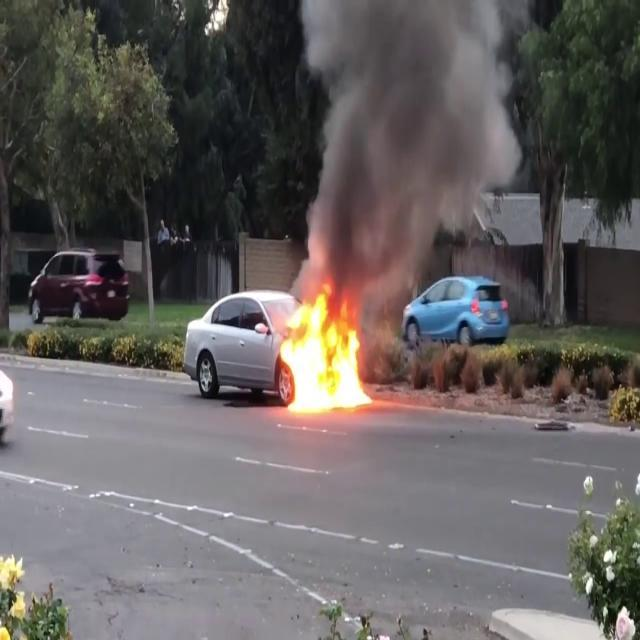Fire: (277, 281, 371, 415)
Smoke: (296, 0, 526, 288)
